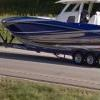Boat: (1, 3, 100, 67)
